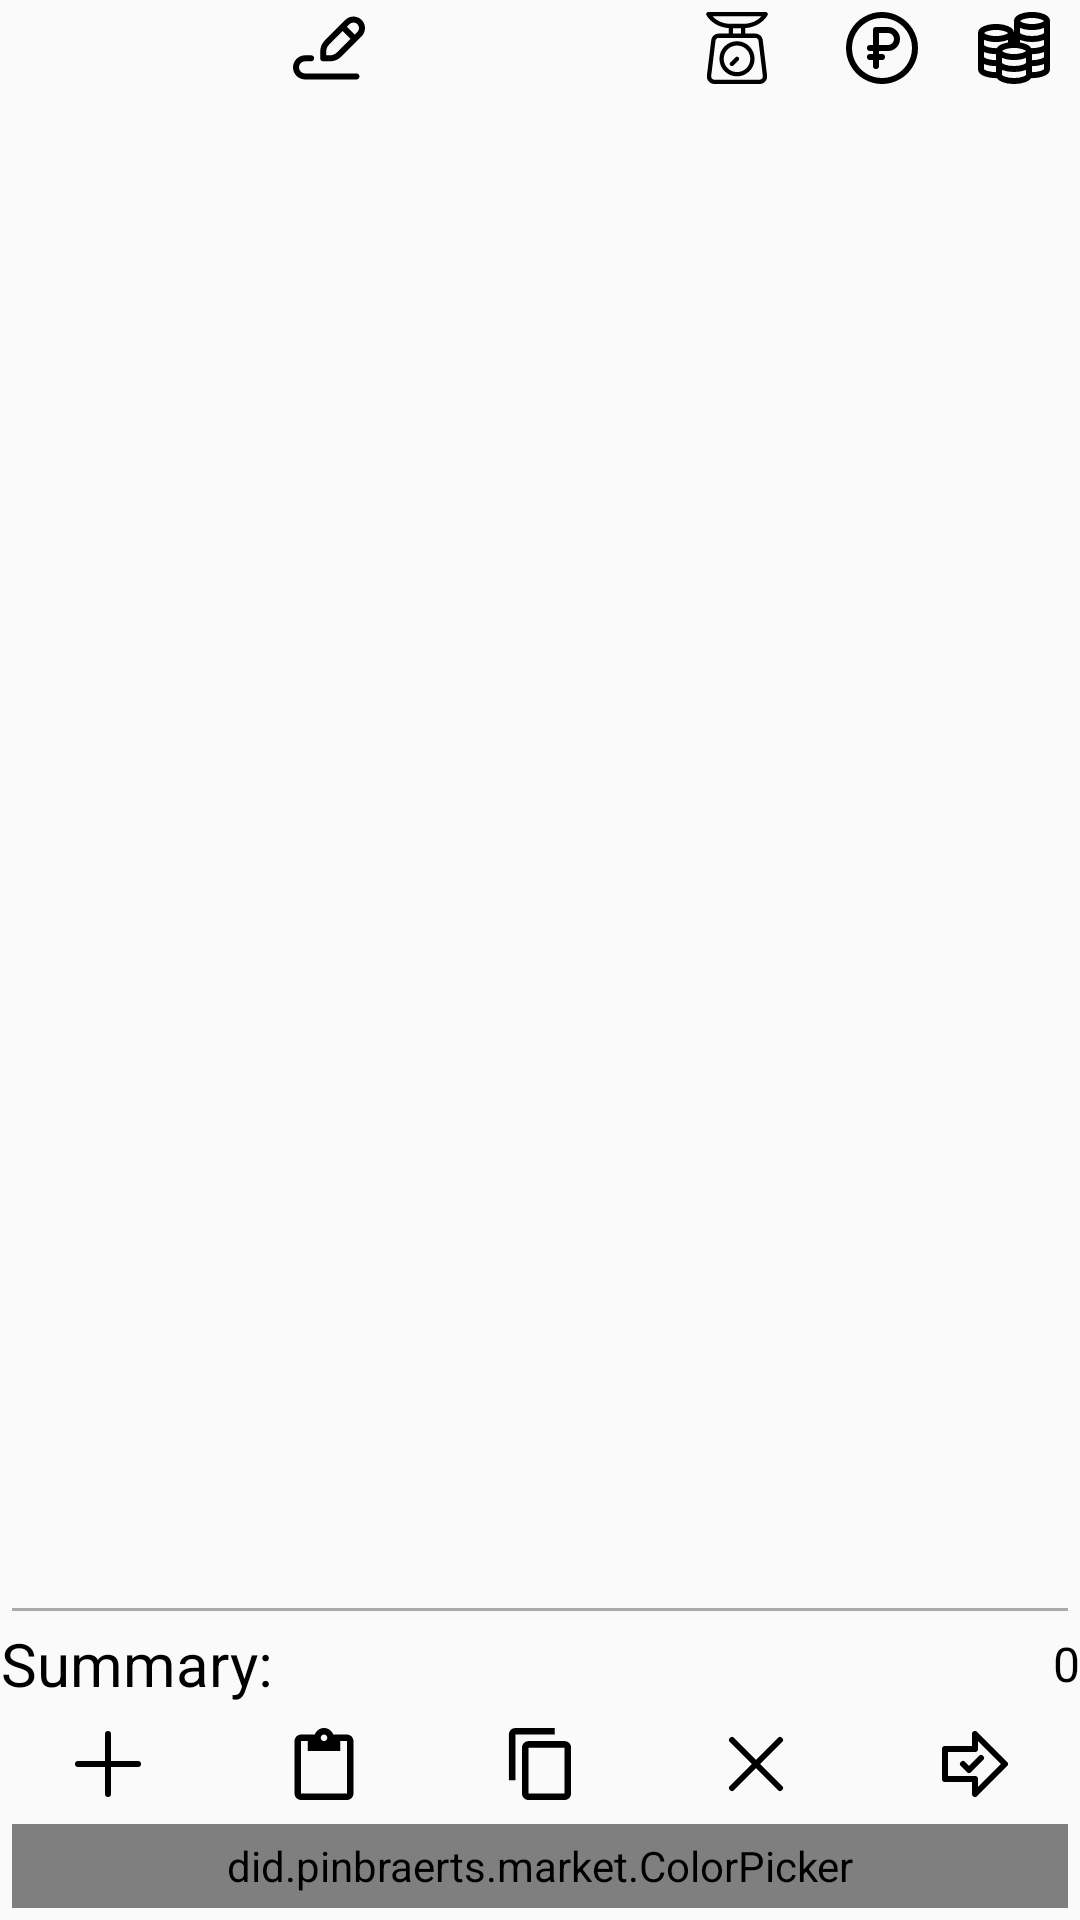

Screen size 1080w x 1920h. Icon name, then its box in pixels as (x1, y1, x2, y2):
add: (75, 1731, 141, 1797)
copy: (509, 1728, 571, 1800)
cost: (978, 12, 1050, 84)
name: (293, 16, 365, 80)
paste: (294, 1728, 354, 1800)
price: (846, 12, 918, 84)
remove all: (729, 1737, 783, 1791)
verify: (942, 1731, 1008, 1797)
weight/amount: (706, 12, 768, 84)
